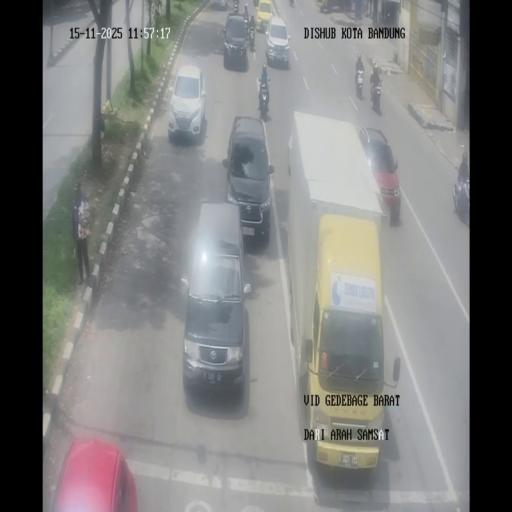car: (180, 202, 248, 392), (224, 116, 275, 246), (51, 436, 137, 511), (358, 126, 401, 222), (168, 62, 207, 142), (222, 12, 250, 70), (265, 15, 290, 68), (255, 0, 273, 33), (211, 0, 228, 10)
motorcycle: (453, 174, 469, 226), (257, 76, 270, 116), (370, 76, 382, 114), (354, 66, 365, 99), (249, 26, 256, 53), (243, 17, 249, 38), (321, 0, 330, 13), (364, 3, 372, 17), (233, 0, 239, 14), (378, 9, 384, 23), (385, 10, 391, 24), (289, 0, 295, 8)
truck: (285, 110, 392, 471)
